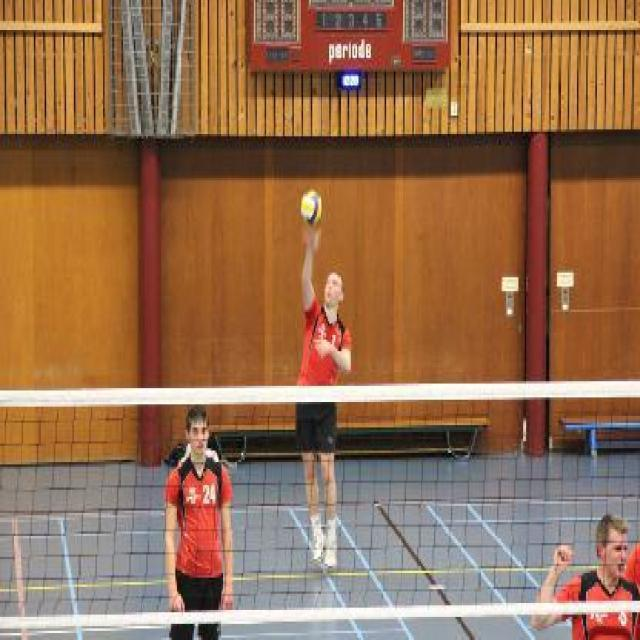volleyball: (300, 188, 324, 227)
